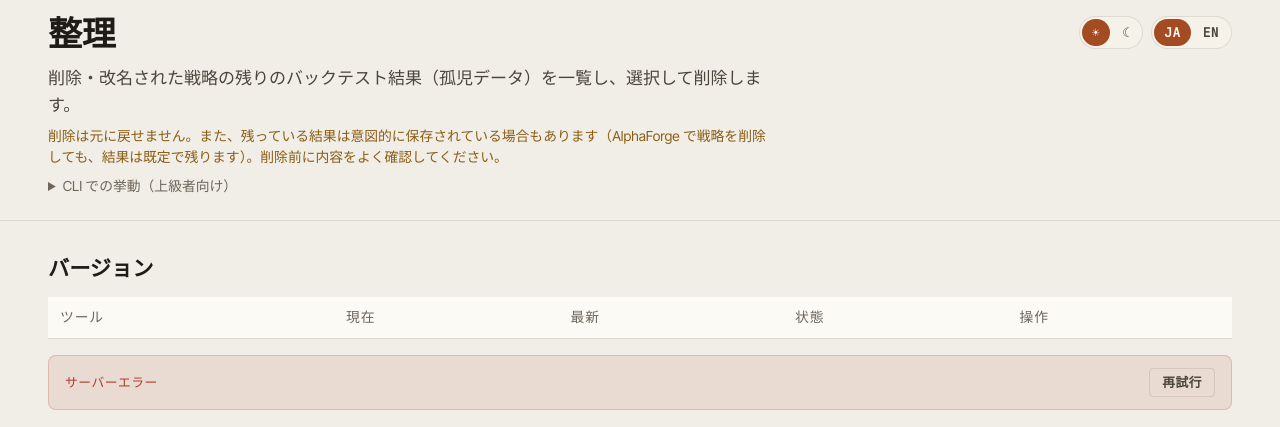
Test: MaintenancePage error normalization (review: Important 1) › 再試行ボタンを押すと一覧を再取得する
Expected: the message "サーバーエラー 再試行" is shown, [48, 355, 1232, 410]
Click the button "再試行" at (1182, 382), box [1149, 368, 1215, 397]
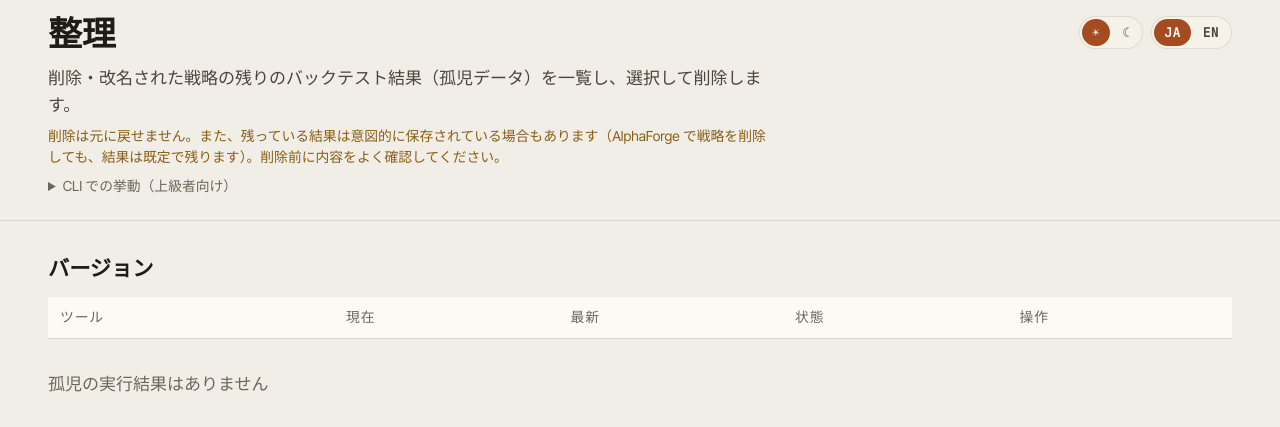
Expected: the message "サーバーエラー 再試行" is gone
